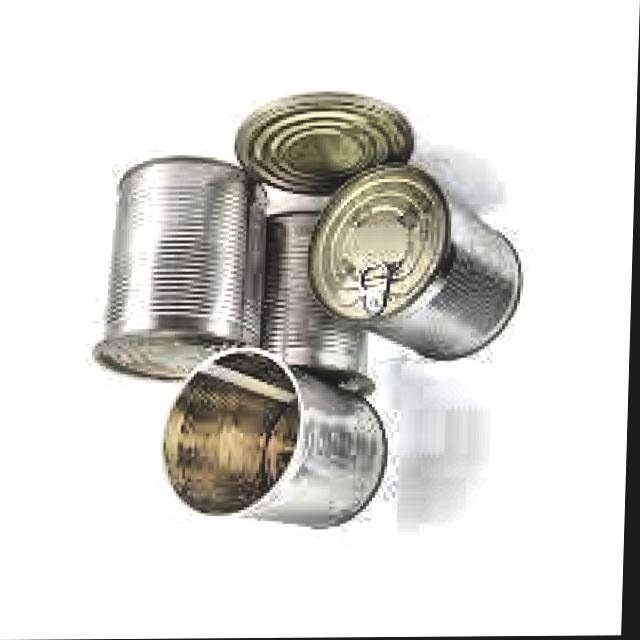can: (155, 338, 405, 541), (306, 159, 532, 369), (87, 142, 272, 387), (249, 205, 386, 418), (224, 87, 422, 211)
